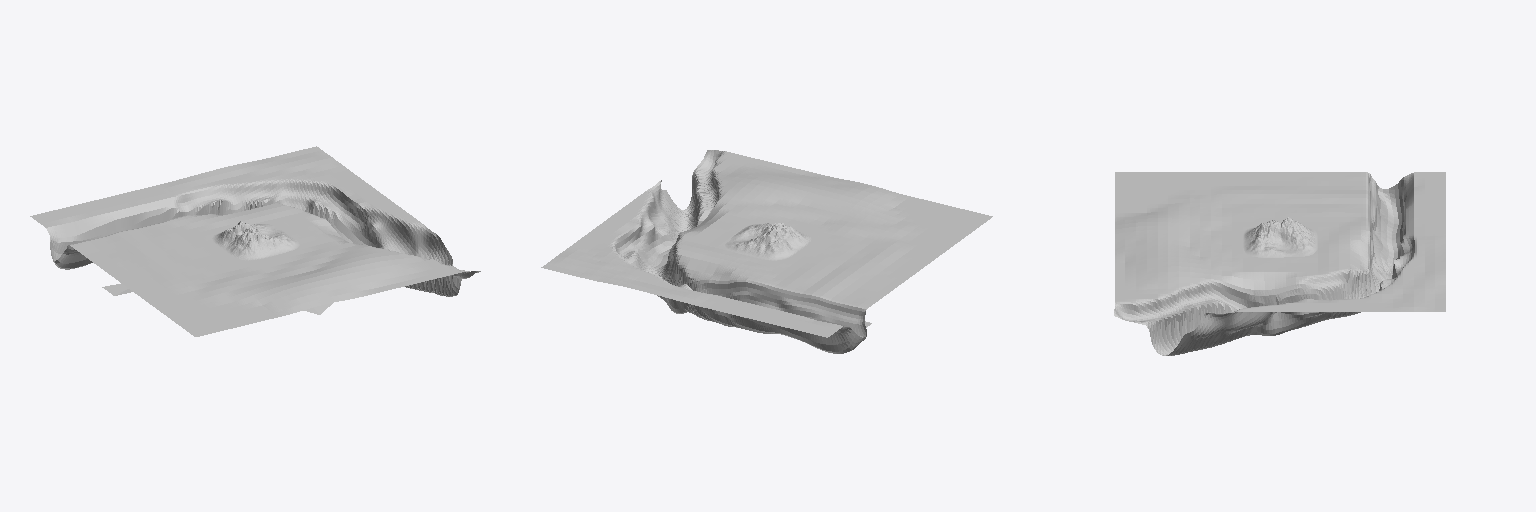
File: fondomarino.obj
3 renders of one model, left to right at view 1: azimuth 30°, elevation 25°; view 2: azimuth 150°, elevation 25°; view 3: azimuth 270°, elevation 25°, orthographic.
Parts seen in each view (by area): view 1: Plane, Landscape; view 2: Plane, Landscape; view 3: Plane, Landscape.
Boxes of the visible parts, <box> form: Plane: <box>30,146,480,336</box>; Landscape: <box>212,221,299,261</box>; Plane: <box>541,150,992,353</box>; Landscape: <box>725,223,812,260</box>; Plane: <box>1114,172,1445,355</box>; Landscape: <box>1243,217,1317,257</box>.
Bounding box in the file's own units: 6.68 × 1.45 × 6.41.